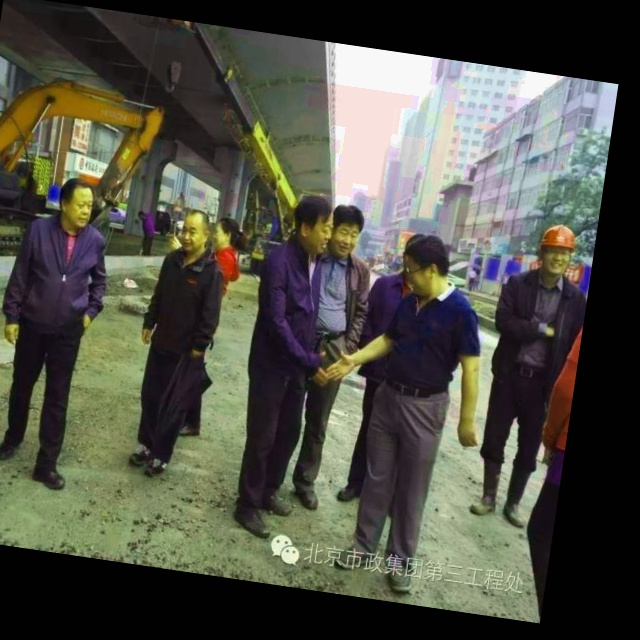Con_Casco: (538, 220, 577, 274)
Sin_Casco_Mascarrilla: (54, 174, 97, 231), (179, 208, 213, 256)
Sin_Chaleco: (382, 288, 484, 405), (249, 242, 328, 370)
